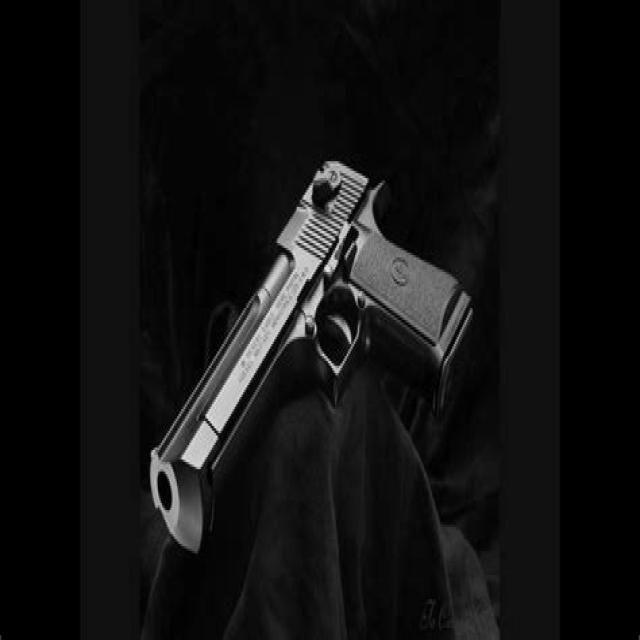weapons: (139, 136, 483, 568)
